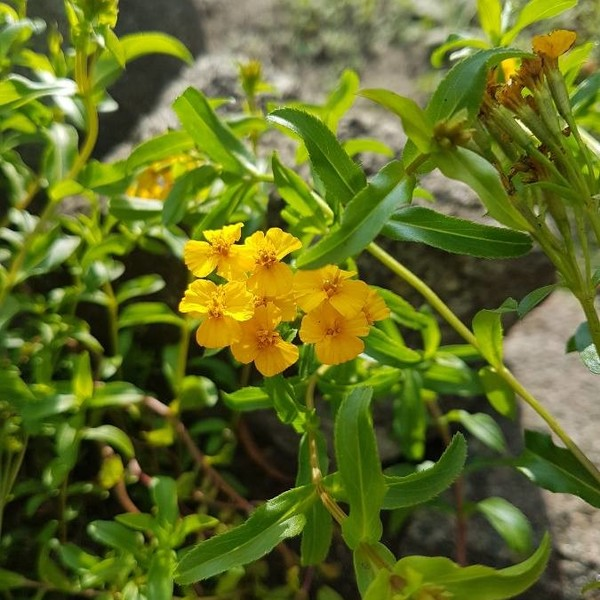obstacle: (122, 92, 537, 553)
